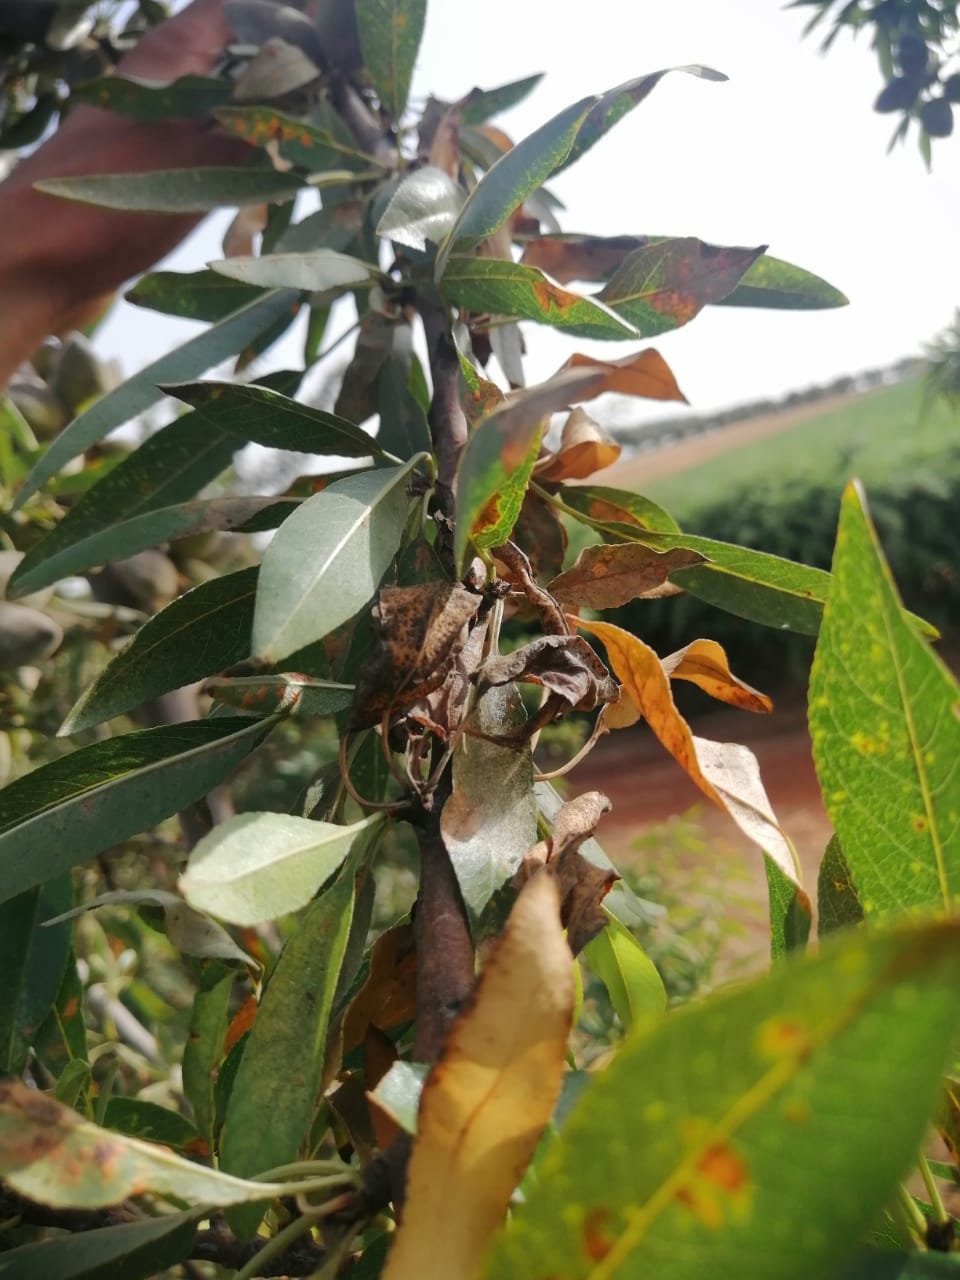scolytes: (351, 477, 765, 994)
